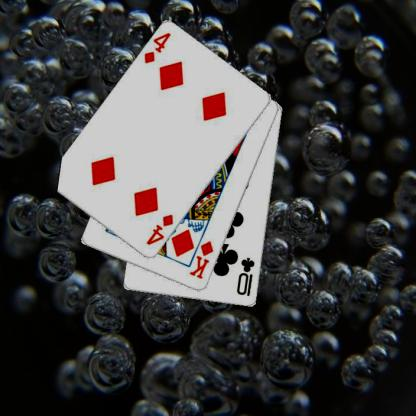10C: (234, 255, 256, 298)
4D: (143, 212, 175, 247), (141, 30, 172, 66)
KD: (187, 238, 215, 281)
